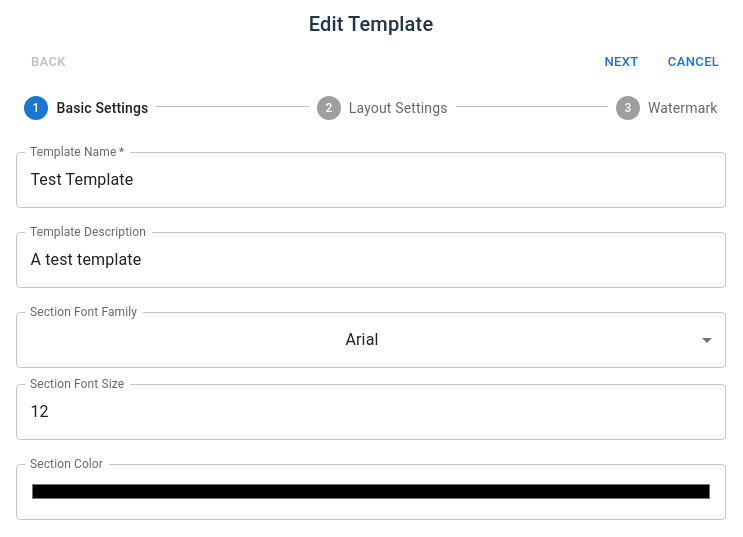
TemplateEditor › handles watermark upload
This screenshot has width=743, height=537.
Click the button "Next".
click(622, 63)  # box [590,47,654,78]
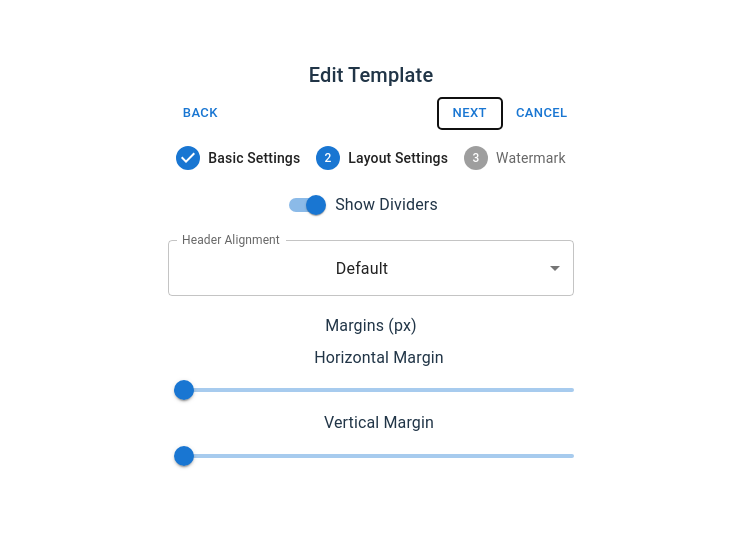
Check: the text "Show Dividers" is shown, box [335,193,438,217]
Click the button "Next".
click(470, 113)  # box [438,98,502,129]
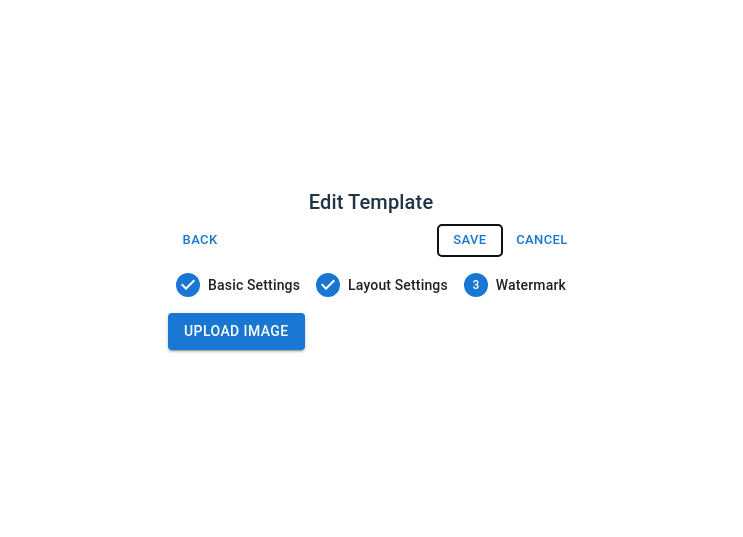
Check: the button "Upload Image" is shown, box [168,313,304,350]
